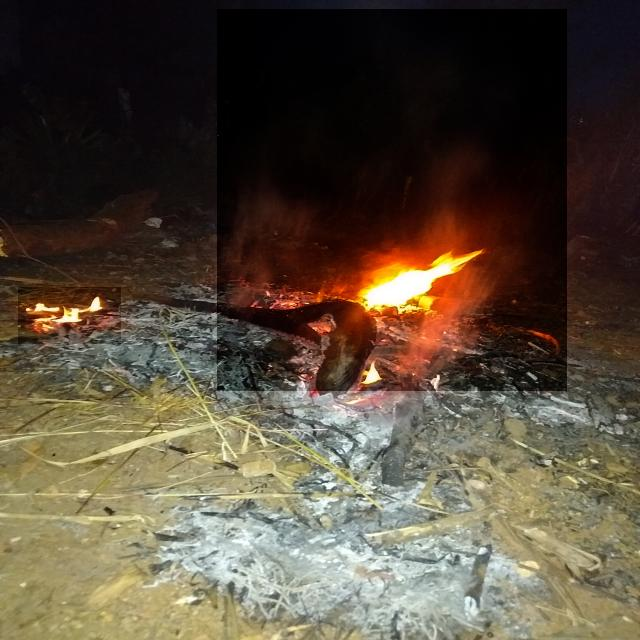Fire: (340, 248, 496, 320), (18, 287, 121, 344)
Smoke: (217, 9, 567, 392)
